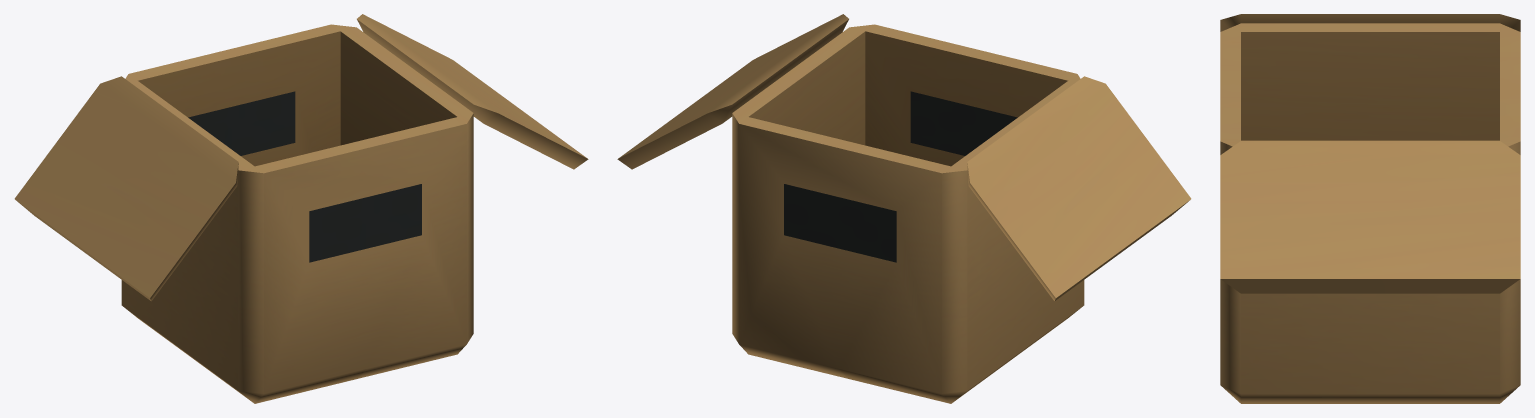
The model's file is box_cardboard_square_open_flaps_handle.fbx.
3 views of the same model, side by side, from view 1: azimuth 30°, elevation 25°; view 2: azimuth 150°, elevation 25°; view 3: azimuth 270°, elevation 25° (orthographic). The views are drawn at different scales.
Visible parts, largest first — view 1: box_cardboard_square_open_flaps_handle; view 2: box_cardboard_square_open_flaps_handle; view 3: box_cardboard_square_open_flaps_handle.
Boxes of the visible parts, x1,y1,x2,y2 form: box_cardboard_square_open_flaps_handle: [14, 14, 588, 403]; box_cardboard_square_open_flaps_handle: [617, 14, 1191, 403]; box_cardboard_square_open_flaps_handle: [1220, 14, 1520, 403].
Bounding box in the file's own units: 100 × 53.69 × 53.69.
